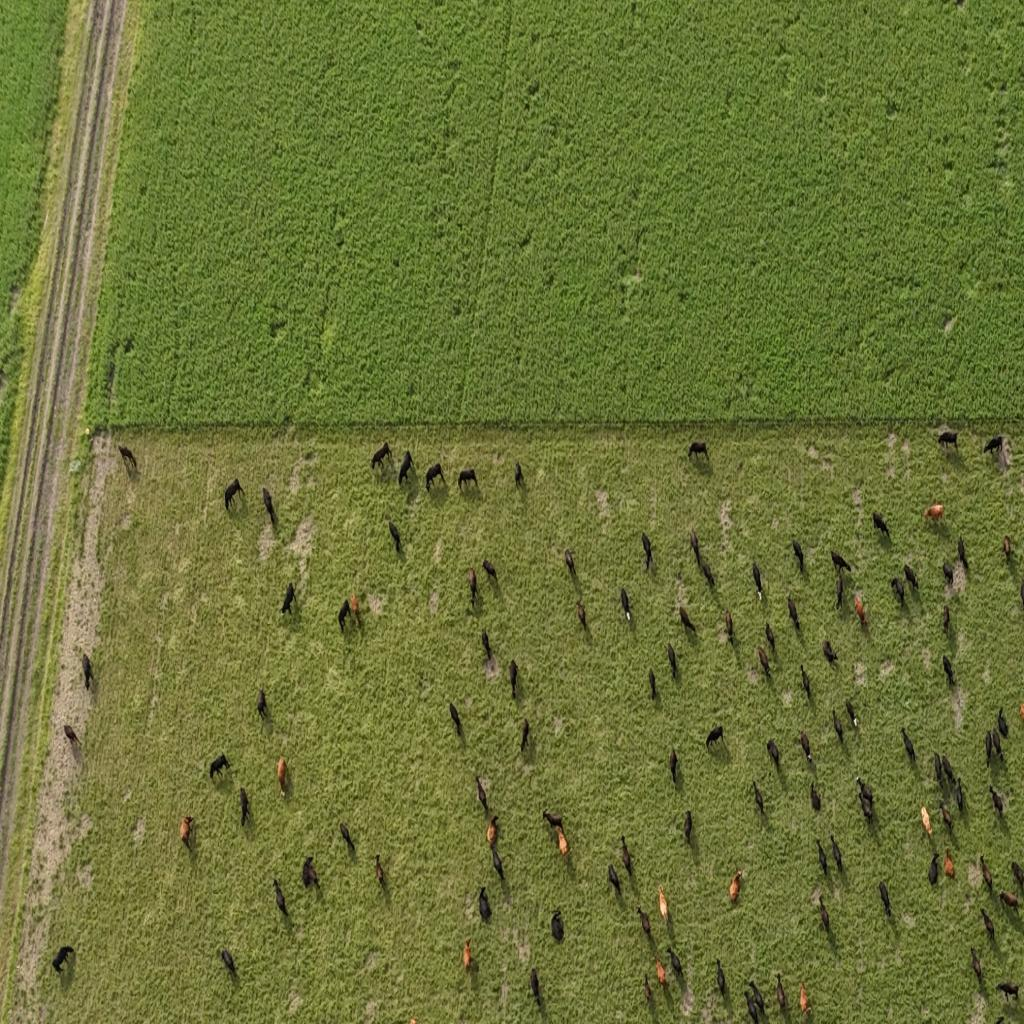cow: (52, 946, 75, 974), (224, 478, 244, 510), (370, 442, 391, 472), (302, 855, 320, 890), (262, 486, 277, 526), (425, 462, 445, 492), (980, 906, 996, 942), (209, 754, 231, 780), (398, 451, 414, 486), (980, 854, 994, 894), (274, 878, 288, 918), (667, 945, 683, 980), (220, 948, 238, 979), (996, 983, 1021, 1005), (457, 467, 478, 493), (491, 843, 505, 882), (280, 582, 296, 616), (859, 790, 874, 826), (118, 445, 137, 473), (872, 512, 891, 540), (706, 724, 725, 752), (478, 885, 492, 923), (902, 727, 916, 765), (830, 550, 852, 574), (989, 785, 1005, 818), (679, 605, 696, 636), (476, 774, 489, 814), (830, 834, 843, 874), (775, 973, 787, 1016), (728, 870, 744, 902), (890, 576, 906, 608), (941, 753, 956, 787), (879, 880, 892, 918), (530, 967, 542, 1008), (542, 809, 563, 832), (817, 897, 830, 934), (752, 780, 765, 817), (340, 822, 355, 854), (239, 786, 251, 826), (999, 889, 1019, 913), (715, 958, 727, 998), (180, 815, 194, 849), (941, 802, 954, 838), (641, 532, 653, 571), (798, 730, 812, 763), (752, 980, 766, 1013), (788, 596, 800, 634), (971, 947, 983, 985), (854, 593, 867, 628), (449, 701, 462, 736), (388, 520, 401, 555), (758, 646, 771, 681), (277, 755, 288, 796), (823, 638, 838, 668), (904, 563, 919, 593), (857, 772, 872, 802), (638, 906, 652, 938), (927, 851, 939, 888), (816, 839, 828, 876), (832, 708, 844, 745), (920, 805, 933, 839), (338, 600, 351, 634), (767, 738, 780, 772), (608, 863, 621, 897), (937, 430, 959, 450), (63, 724, 81, 748), (482, 558, 498, 585), (666, 642, 678, 678), (993, 725, 1005, 761), (374, 854, 386, 890), (255, 688, 268, 721), (688, 441, 709, 461), (622, 834, 632, 876), (932, 752, 944, 787), (82, 653, 93, 691), (752, 560, 763, 598), (557, 826, 570, 858), (942, 654, 955, 686), (655, 956, 667, 990), (349, 593, 361, 627), (552, 909, 564, 943), (576, 601, 588, 635), (701, 561, 715, 590), (689, 528, 700, 564), (792, 539, 804, 572), (744, 990, 756, 1023), (658, 885, 668, 924), (683, 808, 693, 847), (508, 658, 518, 697), (468, 567, 478, 606), (845, 699, 858, 729), (620, 587, 631, 622), (486, 816, 498, 848), (983, 437, 1002, 457), (942, 560, 955, 588), (1002, 538, 1015, 566), (944, 847, 955, 880), (924, 504, 944, 522), (799, 980, 809, 1016), (801, 664, 811, 700), (520, 718, 530, 754), (958, 534, 968, 570), (954, 777, 964, 813), (810, 782, 821, 814), (481, 630, 492, 662), (998, 708, 1009, 740), (462, 938, 472, 973), (669, 746, 678, 784), (985, 728, 994, 766), (648, 668, 658, 702), (765, 620, 775, 654), (564, 548, 576, 576), (835, 574, 844, 610), (725, 608, 734, 643), (1016, 859, 1024, 894), (643, 973, 652, 1004), (514, 461, 524, 487), (942, 603, 950, 634)
